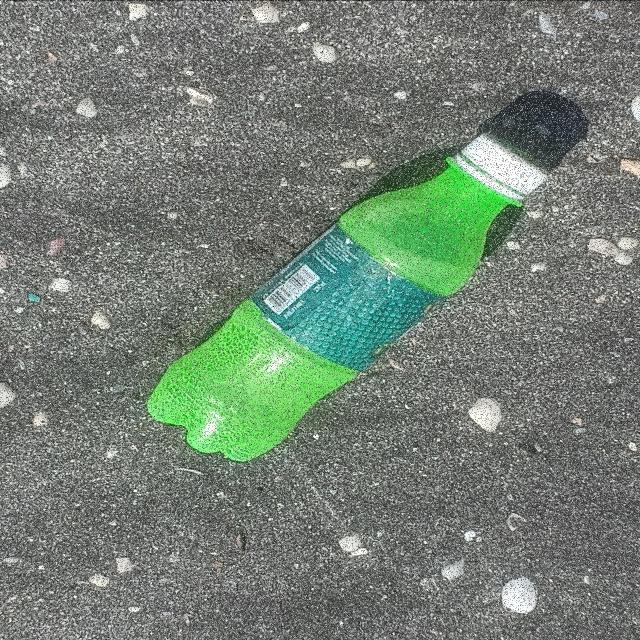plastic_waste: (147, 132, 552, 464)
